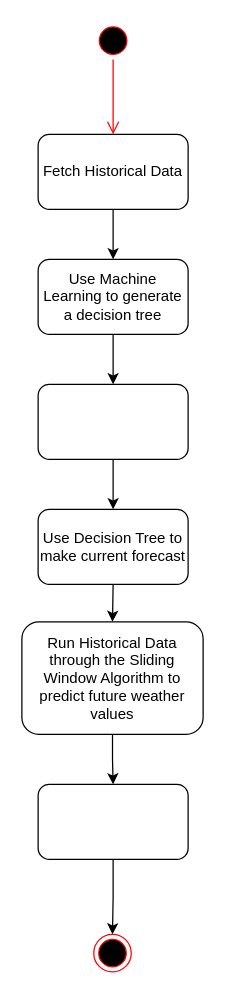
The diagram is 225 pixels wide and 994 high, and some of its shapes have lost their labels. The shapes that lost their labels are listed below. From the top down, each one's centre as x and y in pixels, then its label:
At point (112, 421): "Fetch Current Data".
At point (112, 821): "Use decision tree and predictions to forecast".
